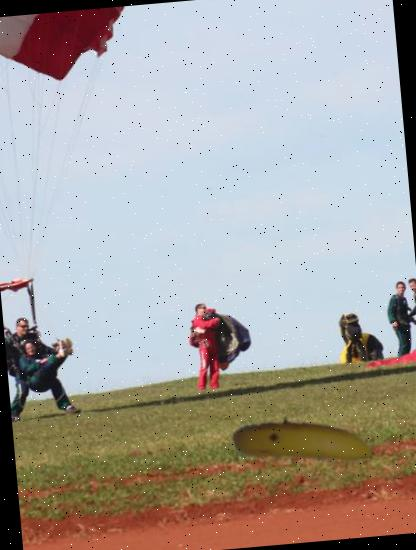Banana: (227, 363, 382, 518)
